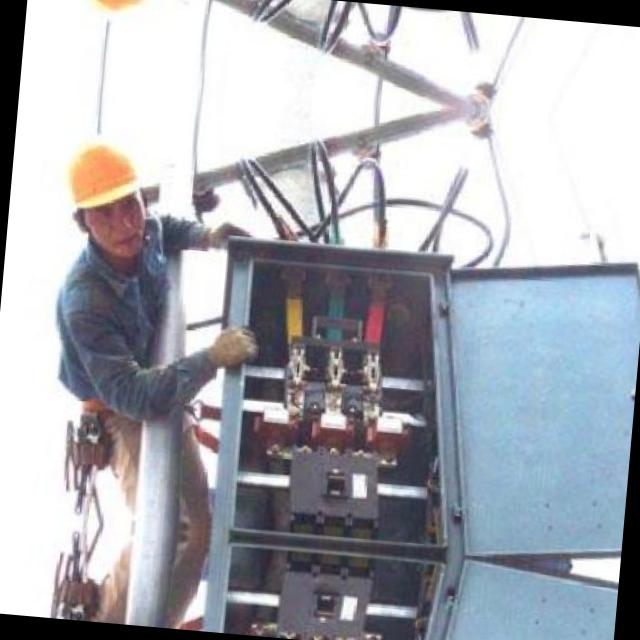helmet: (51, 120, 160, 270), (70, 0, 174, 35)
